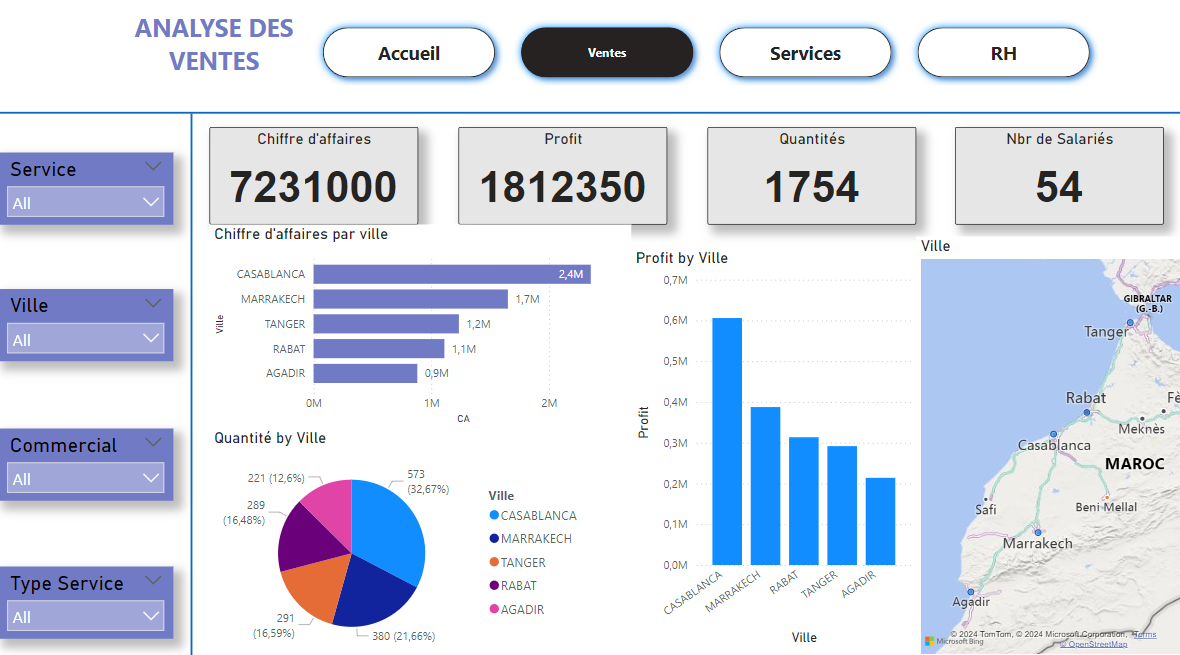

What the dashboard file says about the page in this screenshot:
{"tool":"powerbi","page":{"name":"Ventes","canvas":[1280,720],"ordinal":1},"visuals":[{"type":"shape","box":[0,119.8,1280.8,21],"z":0},{"type":"shape","box":[189.4,131.2,38.9,589.4],"z":1000},{"type":"slicer","fields":{"Values":["Services.Service"]},"box":[0,173.3,189.4,77.7],"z":2000},{"type":"card","title":"Chiffre d''affaires","fields":{"Values":["analyses.CA"]},"box":[228.3,145.7,225.1,105.2],"z":3000},{"type":"slicer","fields":{"Values":["RH.Nom"]},"box":[0,471.2,189.4,77.7],"z":4000},{"type":"slicer","fields":{"Values":["RH.Ville"]},"box":[0,320.6,189.4,77.7],"z":5000},{"type":"slicer","fields":{"Values":["Services.Type"]},"box":[0,620.2,189.4,77.7],"z":6000},{"type":"card","title":"Profit","fields":{"Values":["analyses.Profit"]},"box":[497.1,145.7,225.1,105.2],"z":7000},{"type":"card","title":"Quantités","fields":{"Values":["analyses.Quantité"]},"box":[765.9,145.7,225.1,105.2],"z":8000},{"type":"card","title":"Nbr de Salariés","fields":{"Values":["Count(RH.Matricule)"]},"box":[1033.1,145.7,225.1,105.2],"z":9000},{"type":"pageNavigator","box":[341.7,29.1,848.5,72.9],"z":9001},{"type":"textbox","box":[124.7,14.6,217,87.4],"z":9002},{"type":"barChart","title":"Chiffre d''affaires par ville","fields":{"Y":["analyses.CA"],"Category":["RH.Ville"]},"box":[228.3,251,455,220.2],"z":9003},{"type":"columnChart","fields":{"Category":["RH.Ville"],"Y":["analyses.Profit"]},"box":[683.3,276.9,307.7,432.3],"z":9004},{"type":"map","fields":{"Category":["RH.Ville"]},"box":[991,263.9,289.8,456.6],"z":9005},{"type":"pieChart","fields":{"Y":["analyses.Quantité"],"Category":["RH.Ville"]},"box":[228.3,471.2,411.3,249.4],"z":9006}]}

Visuals, with their boxes in screenshot pixels (x1, y1, x2, y2), scaled from the page's 1280x720 canvas onto the 1180x655 screenshot:
shape: box=[0, 109, 1179, 128]
shape: box=[175, 119, 210, 654]
slicer - Services.Service: box=[0, 158, 175, 228]
"Chiffre d''affaires" card: box=[210, 133, 418, 228]
slicer - RH.Nom: box=[0, 429, 175, 499]
slicer - RH.Ville: box=[0, 292, 175, 362]
slicer - Services.Type: box=[0, 564, 175, 635]
"Profit" card: box=[458, 133, 666, 228]
"Quantités" card: box=[706, 133, 914, 228]
"Nbr de Salariés" card: box=[952, 133, 1160, 228]
pageNavigator: box=[315, 26, 1097, 93]
textbox: box=[115, 13, 315, 93]
"Chiffre d''affaires par ville" barChart: box=[210, 228, 630, 429]
columnChart - RH.Ville x analyses.Profit: box=[630, 252, 914, 645]
map - RH.Ville: box=[914, 240, 1179, 654]
pieChart - analyses.Quantité x RH.Ville: box=[210, 429, 590, 654]
